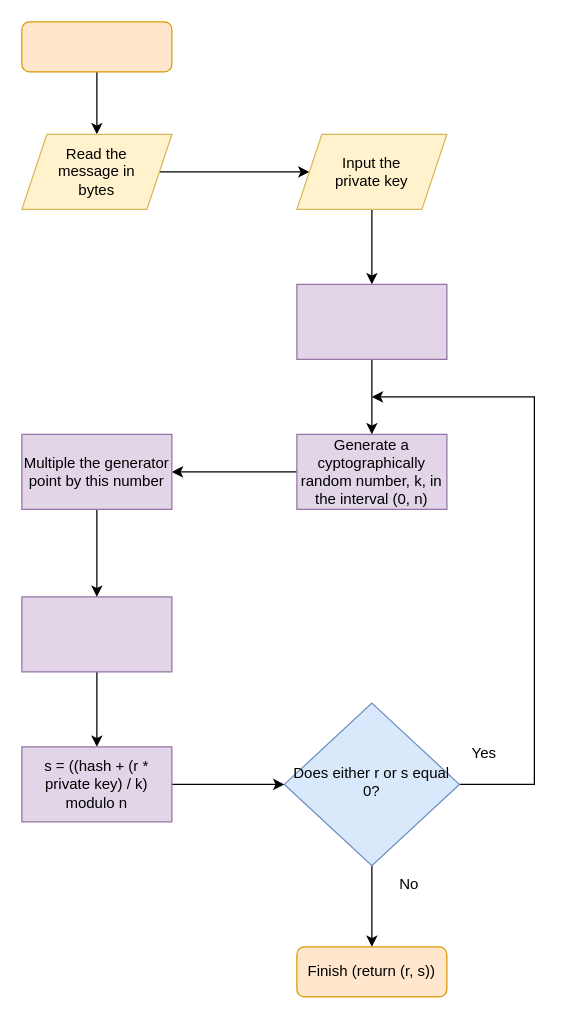
Some shapes in this 566 by 1019 pixel diagram are drawn without their labels. Each missing label, with the centre of its shape:
"Hash the message and trim it so it's smaller than n." goes at [371,321].
"Let 'r' equal this point X value modulo n." goes at [96,634].
"Start" goes at [96,46].
